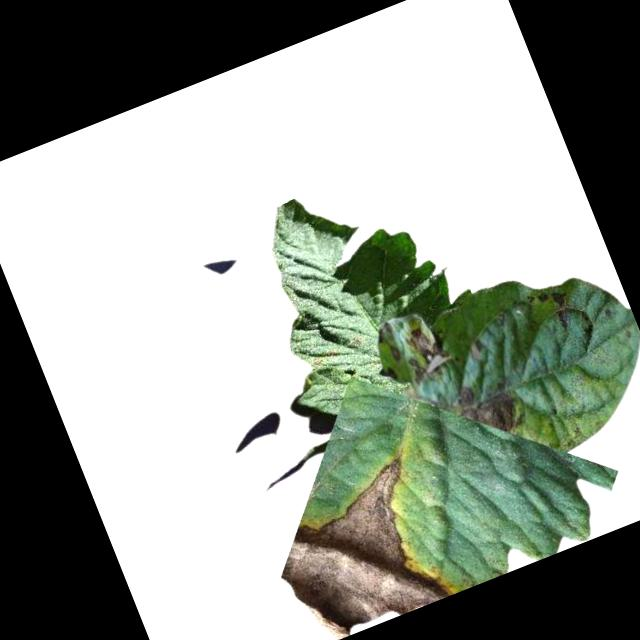Early_blight: (252, 452, 455, 640), (442, 371, 521, 449), (394, 318, 459, 391), (534, 283, 580, 333), (311, 341, 343, 368), (387, 338, 405, 363)
